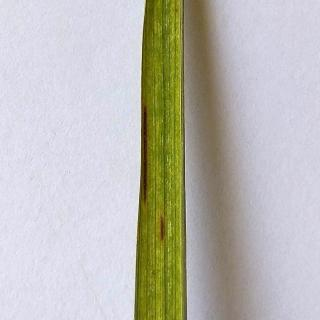Bercak-Cokelat-Sempit: (133, 96, 155, 212), (157, 214, 165, 248)
